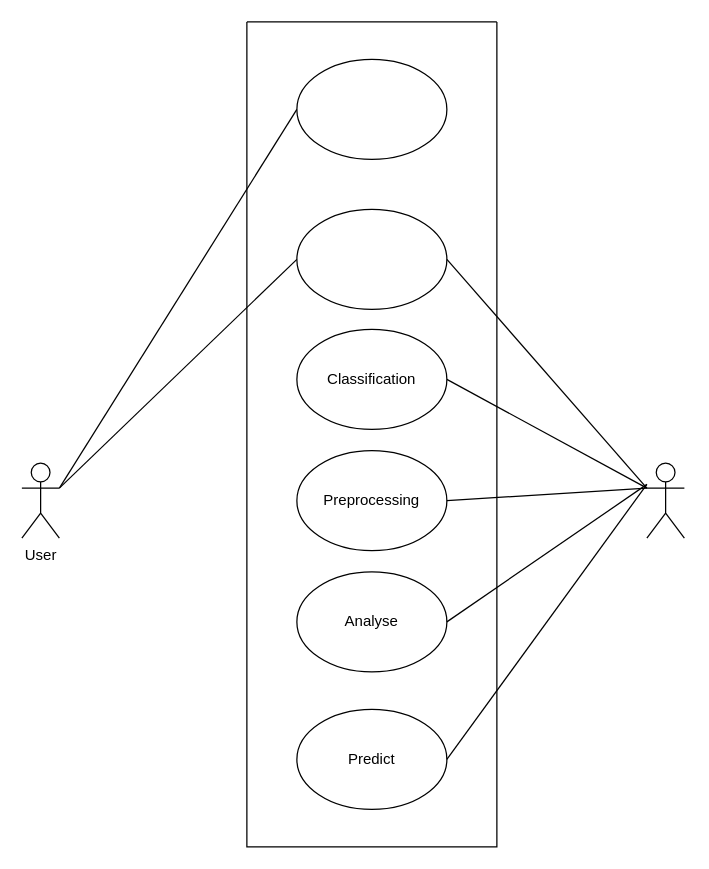
Some shapes in this 709 by 869 pixel diagram are drawn without their labels. Each missing label, with the centre of its shape:
Data Collection: (x=371, y=258)
Register: (x=371, y=108)
Server: (x=665, y=500)
